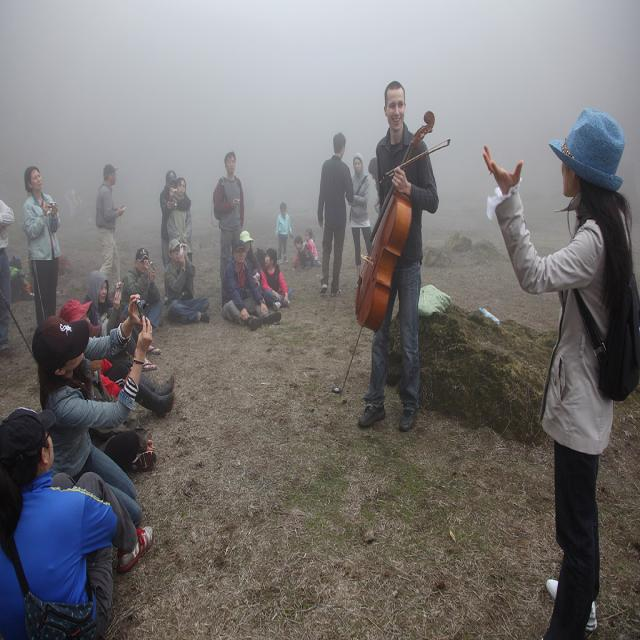cello: (353, 104, 435, 342)
